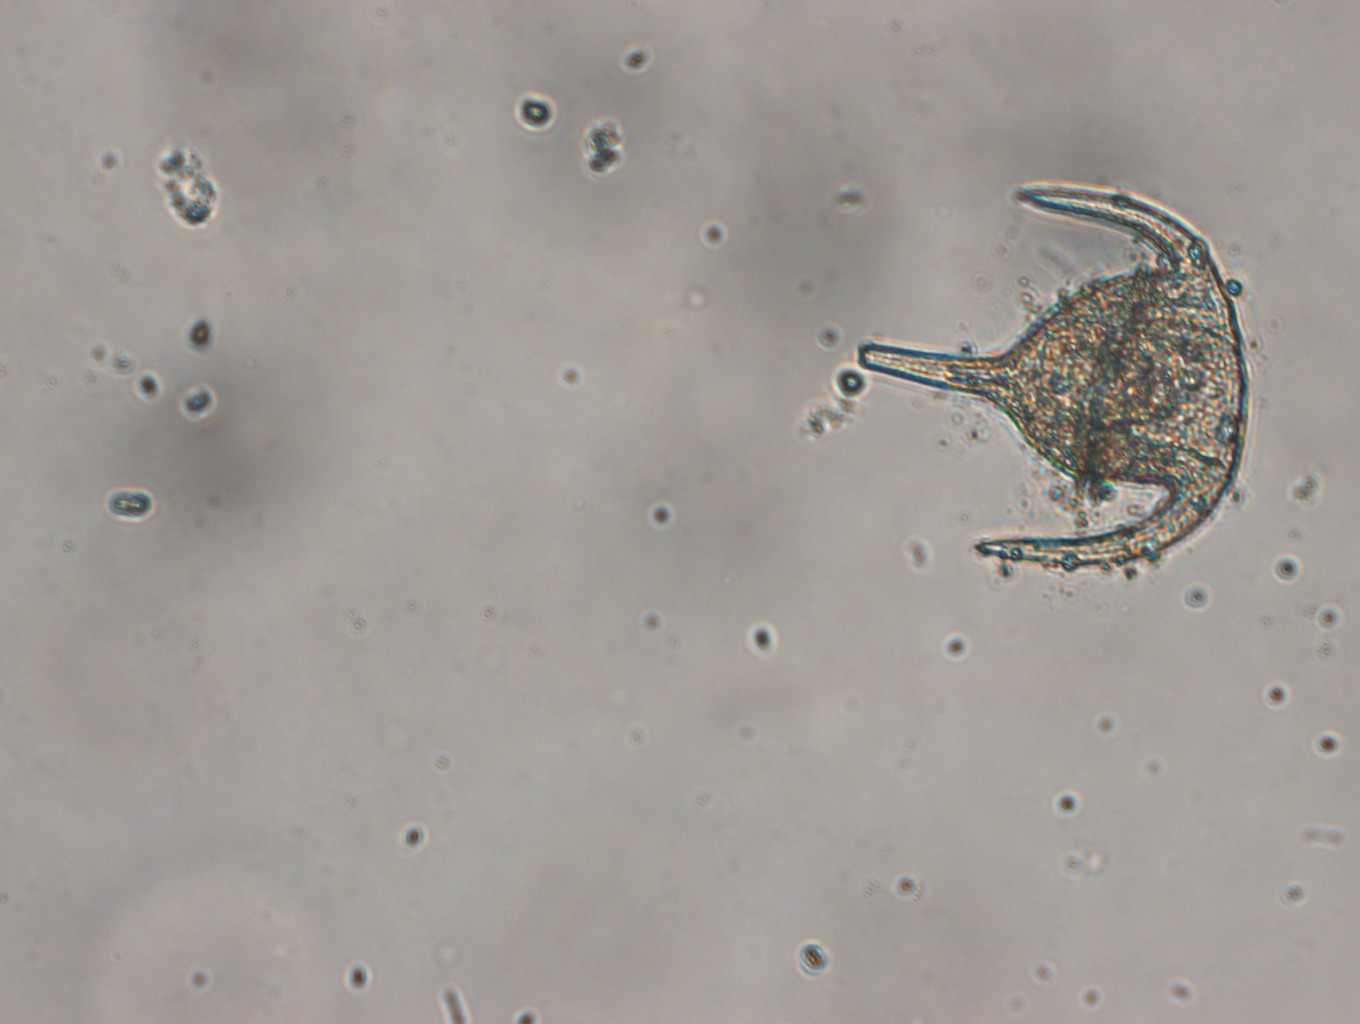ceratium tripos: (854, 176, 1255, 575)
